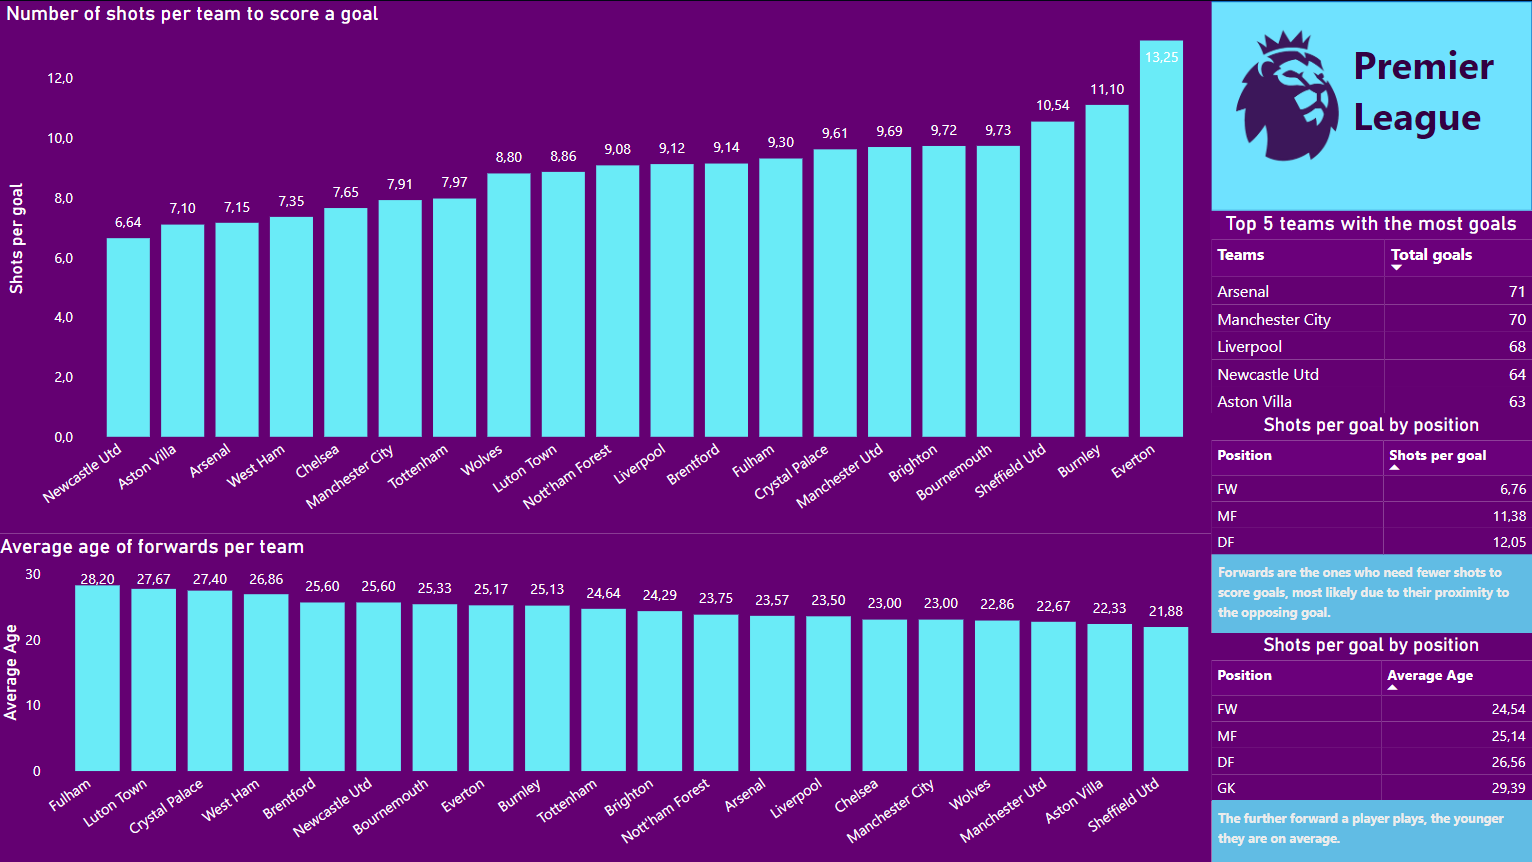

This screenshot's page, from the dashboard's own definition file:
{"tool":"powerbi","page":{"name":"Página 1","canvas":[1280,720],"ordinal":0},"visuals":[{"type":"shape","box":[1010.6,0,269.4,175.5],"z":0},{"type":"columnChart","title":"Number of shots per team to score a goal","fields":{"Category":["Hoja1.Squad"],"Y":["Hoja1.Shoot_per_goals"]},"box":[0,0,1011.7,445],"z":1000},{"type":"tableEx","title":"Top 5 teams with the most goals","fields":{"Values":["Hoja1.Squad","Sum(Hoja1.Gls)"]},"box":[1010.7,175.3,269.3,172],"z":2000},{"type":"tableEx","title":"Tiros promedio para gol y posición","fields":{"Values":["Hoja1.Pos1","Hoja1.Shoot_per_goals"]},"box":[630.9,514.5,265.5,136.4],"z":3000},{"type":"image","box":[951.3,0,247.9,157.3],"z":4000},{"type":"textbox","box":[1124.9,25.1,147.4,119],"z":5000},{"type":"textbox","box":[1012.2,461.7,267.8,66.1],"z":6000},{"type":"columnChart","title":"Average age of forwards per team","fields":{"Category":["Hoja1.Squad"],"Y":["Avg(Hoja1.Age)"]},"box":[0,445,1011.7,275],"z":7000},{"type":"tableEx","title":"Shots per goal by position","fields":{"Values":["Hoja1.Pos1","Hoja1.Shoot_per_goals"]},"box":[1010.4,344.3,269.6,130],"z":8000},{"type":"tableEx","title":"Shots per goal by position","fields":{"Values":["Hoja1.Pos1","Avg(Hoja1.Age)"]},"box":[1010.9,527.8,269.1,149.6],"z":9000},{"type":"textbox","box":[1012.2,667.4,267.8,52.6],"z":10000}]}

Visuals, with their boxes in screenshot pixels (x1, y1, x2, y2), scaled from the page's 1280x720 canvas onto the 1532x862 screenshot:
shape: pyautogui.locateOnScreen(1210, 0, 1531, 210)
"Number of shots per team to score a goal" columnChart: pyautogui.locateOnScreen(0, 0, 1211, 533)
"Top 5 teams with the most goals" tableEx: pyautogui.locateOnScreen(1210, 210, 1531, 416)
"Tiros promedio para gol y posición" tableEx: pyautogui.locateOnScreen(755, 616, 1073, 779)
image: pyautogui.locateOnScreen(1139, 0, 1435, 188)
textbox: pyautogui.locateOnScreen(1346, 30, 1523, 173)
textbox: pyautogui.locateOnScreen(1211, 553, 1531, 632)
"Average age of forwards per team" columnChart: pyautogui.locateOnScreen(0, 533, 1211, 861)
"Shots per goal by position" tableEx: pyautogui.locateOnScreen(1209, 412, 1531, 568)
"Shots per goal by position" tableEx: pyautogui.locateOnScreen(1210, 632, 1531, 811)
textbox: pyautogui.locateOnScreen(1211, 799, 1531, 861)
